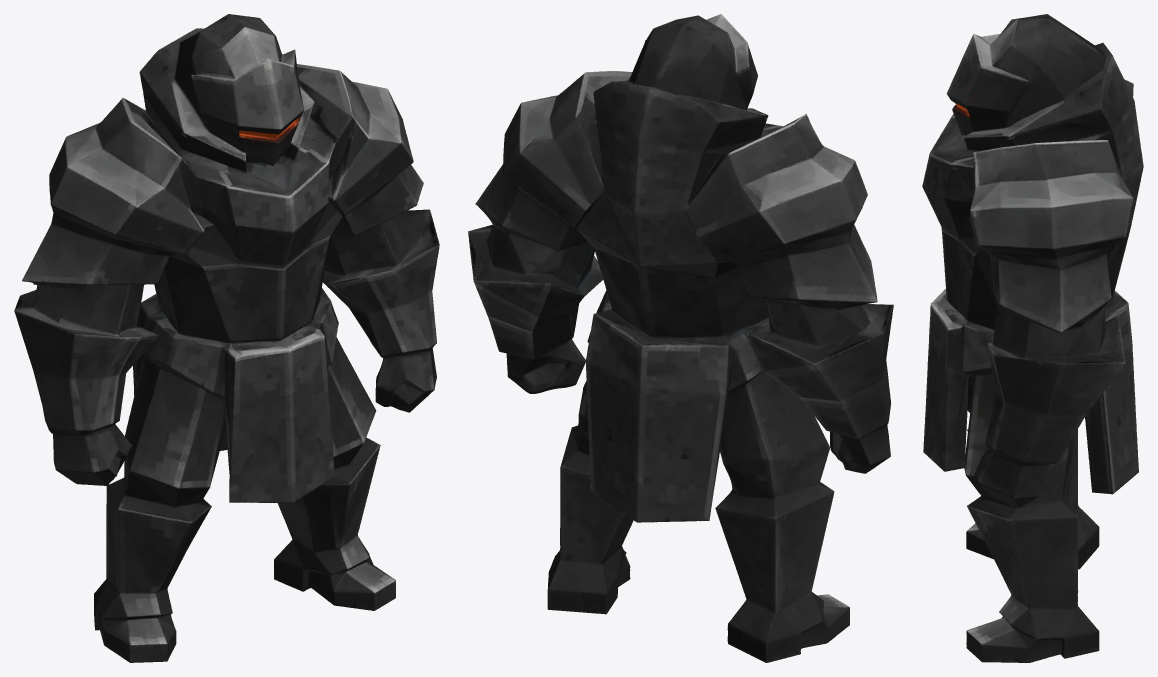
The model's file is elite_enemy_v2.glb.
3 views of the same model, side by side, from view 1: azimuth 30°, elevation 25°; view 2: azimuth 150°, elevation 25°; view 3: azimuth 270°, elevation 25° (orthographic).
Bounding box in the file's own units: 1.4 × 1.9 × 0.6565.
Materials: 1 (1 with a texture image).
